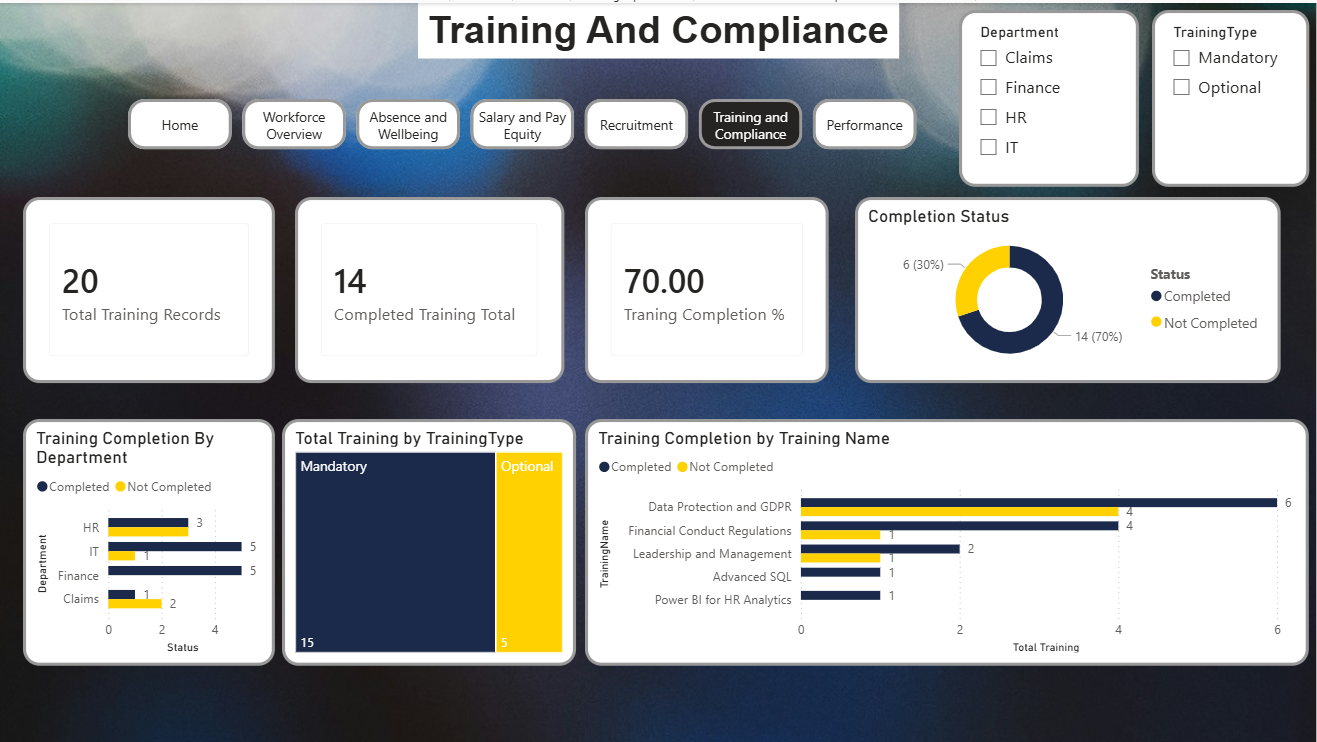

The page's visual inventory and layout, read from the dashboard file:
{"tool":"powerbi","page":{"name":"Training and Compliance","canvas":[1280,720],"ordinal":5},"visuals":[{"type":"textbox","box":[406.1,0,467.8,54.5],"z":0},{"type":"pageNavigator","box":[134.2,100.2,704.2,49.6],"z":1000},{"type":"cardVisual","fields":{"Data":["CountNonNull(vw_TrainingCompliance.TrainingName)"]},"box":[22.4,188.7,245.1,180.9],"z":2000},{"type":"cardVisual","fields":{"Data":["CountNonNull(vw_TrainingCompliance.Status)"]},"box":[287.4,188.7,261.6,180.9],"z":3000},{"type":"cardVisual","fields":{"Data":["vw_TrainingCompliance.Traning Completion %"]},"box":[569,188.7,237.3,180.9],"z":4000},{"type":"clusteredBarChart","title":"Training Completion By Department","fields":{"Y":["CountNonNull(vw_TrainingCompliance.Status)"],"Category":["vw_TrainingCompliance.Department"],"Series":["vw_TrainingCompliance.Status"]},"box":[22.4,404.6,245.1,240.2],"z":5000},{"type":"clusteredBarChart","fields":{"Category":["vw_TrainingCompliance.TrainingType"],"Y":["CountNonNull(vw_TrainingCompliance.EmployeeID)"]},"box":[274.3,404.6,286,240.2],"z":6000},{"type":"clusteredBarChart","title":"Training Completion by Training  Name","fields":{"Category":["vw_TrainingCompliance.TrainingName"],"Y":["CountNonNull(vw_TrainingCompliance.Status)"],"Series":["vw_TrainingCompliance.Status"]},"box":[569,404.6,704.2,240.2],"z":7000},{"type":"donutChart","title":"Completion Status","fields":{"Category":["vw_TrainingCompliance.Status"],"Y":["CountNonNull(vw_TrainingCompliance.EmployeeID)"]},"box":[831.6,188.7,414.3,180.9],"z":8000},{"type":"slicer","fields":{"Values":["vw_TrainingCompliance.Department"]},"box":[932.8,6.8,175.1,172.2],"z":9000},{"type":"slicer","fields":{"Values":["vw_TrainingCompliance.TrainingType"]},"box":[1120.5,6.8,152.7,172.2],"z":10000}]}

Visuals, with their boxes in screenshot pixels (x1, y1, x2, y2), scaled from the page's 1280x720 canvas onto the 1317x742 screenshot:
textbox: [left=418, top=0, right=899, bottom=56]
pageNavigator: [left=138, top=103, right=863, bottom=154]
cardVisual - CountNonNull(vw_TrainingCompliance.TrainingName): [left=23, top=194, right=275, bottom=381]
cardVisual - CountNonNull(vw_TrainingCompliance.Status): [left=296, top=194, right=565, bottom=381]
cardVisual - vw_TrainingCompliance.Traning Completion %: [left=585, top=194, right=830, bottom=381]
"Training Completion By Department" clusteredBarChart: [left=23, top=417, right=275, bottom=665]
clusteredBarChart - vw_TrainingCompliance.TrainingType x CountNonNull(vw_TrainingCompliance.EmployeeID): [left=282, top=417, right=576, bottom=665]
"Training Completion by Training  Name" clusteredBarChart: [left=585, top=417, right=1310, bottom=665]
"Completion Status" donutChart: [left=856, top=194, right=1282, bottom=381]
slicer - vw_TrainingCompliance.Department: [left=960, top=7, right=1140, bottom=184]
slicer - vw_TrainingCompliance.TrainingType: [left=1153, top=7, right=1310, bottom=184]
